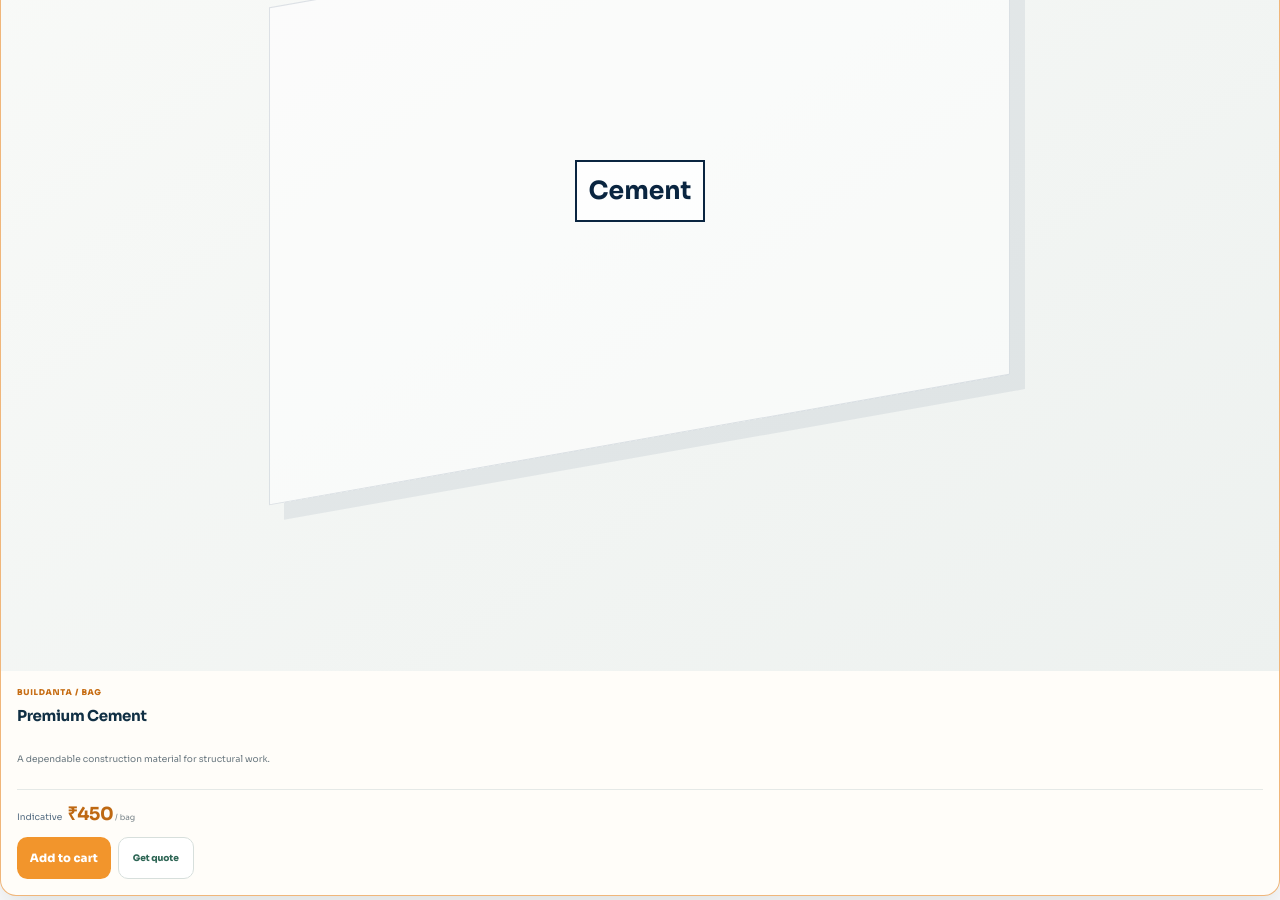
Test: ProductCard purchase actions › adds the exact single direct variant with card quantity one
(page scrolled)
Click the button with aria-label "Add Premium Cement to cart" at coordinates (64, 858), box [17,837,111,879]
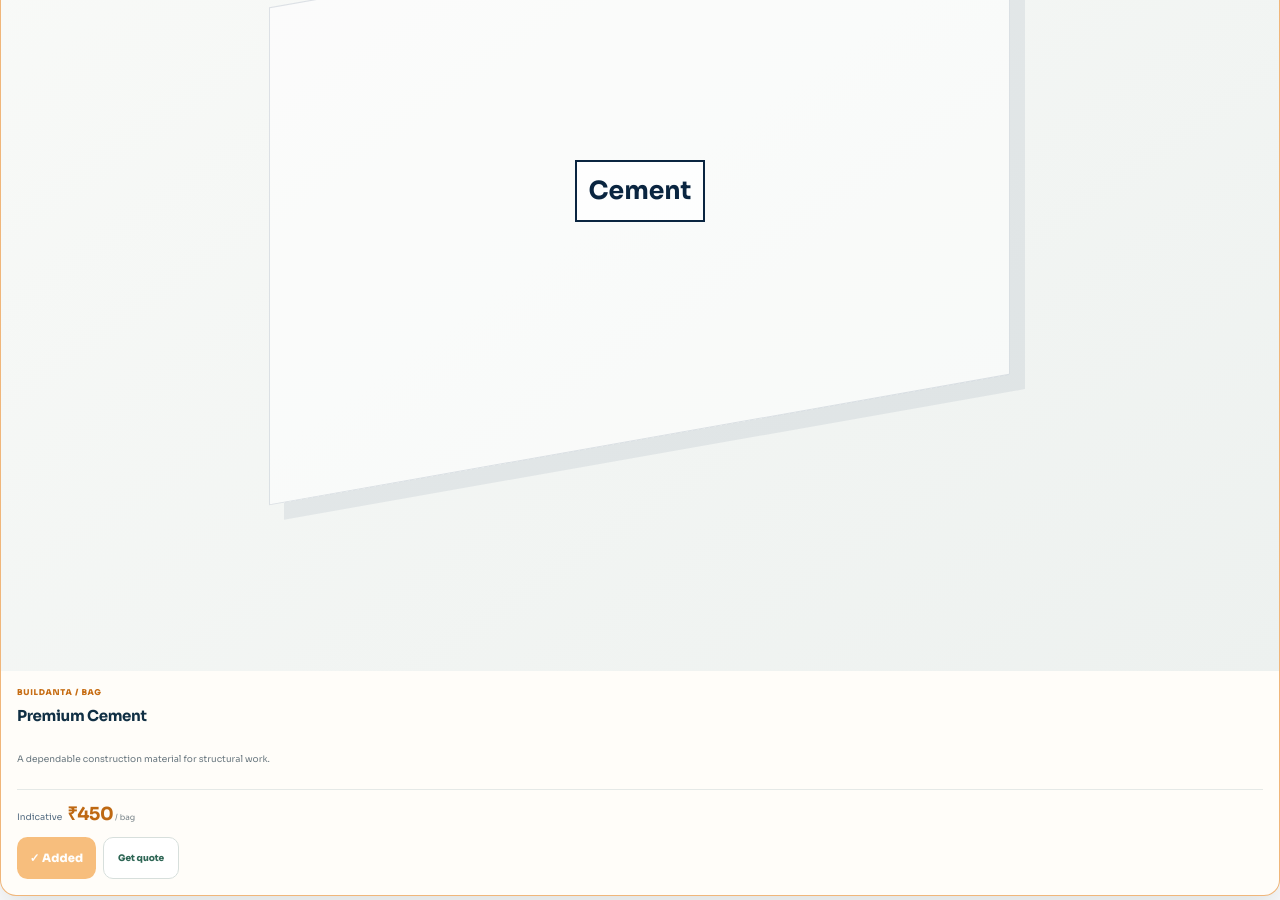
Now the button "✓ Added" is shown, box [17,837,96,879]
